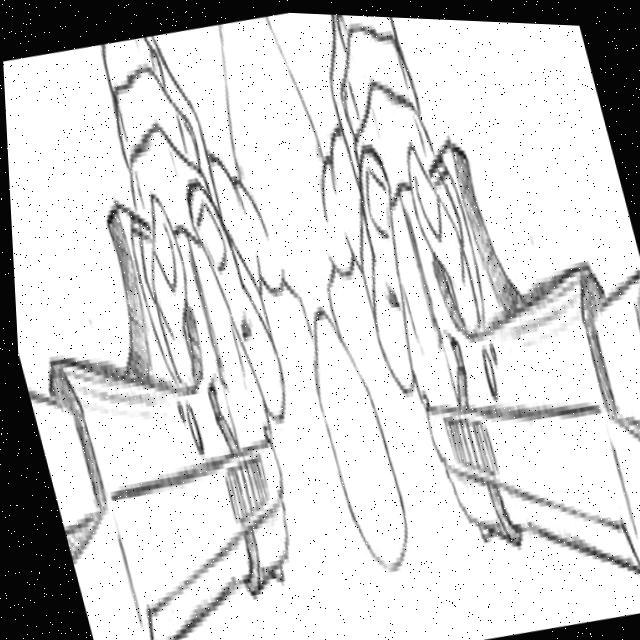pistol: (349, 94, 640, 640), (7, 175, 326, 640)
